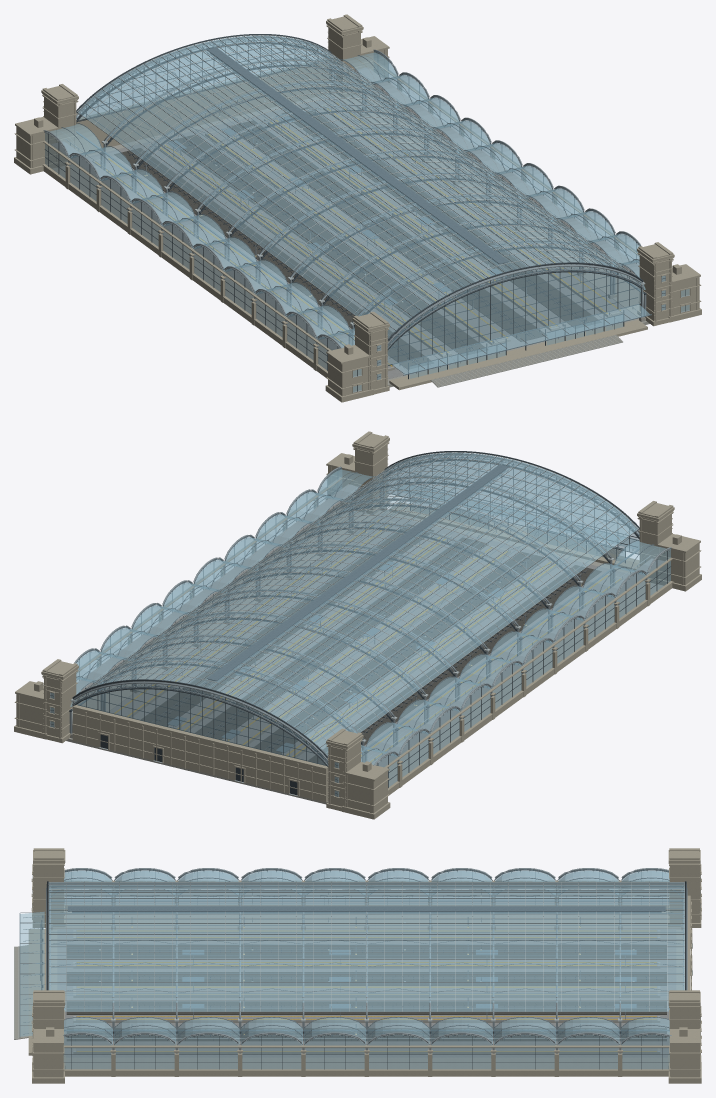
File: RAIL01_lod1.glb
3 renders of one model, top to bottom at view 1: azimuth 30°, elevation 25°; view 2: azimuth 150°, elevation 25°; view 3: azimuth 270°, elevation 25°, orthographic. The views are drawn at different scales.
Parts seen in each view (by area): view 1: Low_Iron_Glass_Panels__safety_glass, Track_Ballast__ballast, Side_Scalloped_Glass__safety_glass, Concourse_Floor__paving, Platform_Paving__paving, Front_Gable_Glass__safety_glass, Side_Arched_Curtain_Wall__safety_glass, Glass_Longitudinal_Caps__brushed_metal, Transverse_Glazing_Bars__brushed_metal, Side_Annex_Floor__concrete, Longitudinal_Purlins__galvanized_steel, Main_Arch_I_Beams__galvanized_steel (+41 smaller); view 2: Low_Iron_Glass_Panels__safety_glass, Track_Ballast__ballast, Side_Scalloped_Glass__safety_glass, Concourse_Floor__paving, Platform_Paving__paving, Side_Arched_Curtain_Wall__safety_glass, Glass_Longitudinal_Caps__brushed_metal, Transverse_Glazing_Bars__brushed_metal, Side_Annex_Floor__concrete, Longitudinal_Purlins__galvanized_steel, Rear_Lower_Masonry__stone, Rear_Upper_Glass__safety_glass (+41 smaller); view 3: Low_Iron_Glass_Panels__safety_glass, Track_Ballast__ballast, Side_Arched_Curtain_Wall__safety_glass, Concourse_Floor__paving, Platform_Paving__paving, Glass_Longitudinal_Caps__brushed_metal, Side_Annex_Floor__concrete, Longitudinal_Purlins__galvanized_steel, Side_Scalloped_Glass__safety_glass, EPDM_Gaskets__rubber, Platform_Slabs__concrete, Side_Gallery_Walkway__paving (+37 smaller).
Boxes of the visible parts, x1,y1,x2,y2 form: Low_Iron_Glass_Panels__safety_glass: [78, 35, 629, 337]; Track_Ballast__ballast: [114, 107, 601, 369]; Side_Scalloped_Glass__safety_glass: [50, 52, 645, 347]; Concourse_Floor__paving: [86, 96, 637, 378]; Platform_Paving__paving: [94, 103, 621, 367]; Front_Gable_Glass__safety_glass: [387, 266, 640, 364]; Side_Arched_Curtain_Wall__safety_glass: [45, 51, 639, 369]; Glass_Longitudinal_Caps__brushed_metal: [77, 35, 631, 339]; Transverse_Glazing_Bars__brushed_metal: [77, 35, 629, 323]; Side_Annex_Floor__concrete: [52, 91, 645, 369]; Longitudinal_Purlins__galvanized_steel: [81, 37, 635, 335]; Main_Arch_I_Beams__galvanized_steel: [76, 36, 642, 341]; Low_Iron_Glass_Panels__safety_glass: [86, 452, 637, 754]; Track_Ballast__ballast: [141, 524, 601, 764]; Side_Scalloped_Glass__safety_glass: [70, 469, 665, 764]; Concourse_Floor__paving: [110, 513, 629, 760]; Platform_Paving__paving: [114, 520, 621, 762]; Side_Arched_Curtain_Wall__safety_glass: [76, 468, 670, 786]; Glass_Longitudinal_Caps__brushed_metal: [84, 452, 638, 756]; Transverse_Glazing_Bars__brushed_metal: [86, 452, 638, 740]; Side_Annex_Floor__concrete: [70, 508, 663, 786]; Longitudinal_Purlins__galvanized_steel: [80, 454, 634, 752]; Rear_Lower_Masonry__stone: [72, 705, 328, 802]; Rear_Upper_Glass__safety_glass: [75, 683, 328, 765]; Low_Iron_Glass_Panels__safety_glass: [49, 882, 684, 1011]; Track_Ballast__ballast: [66, 945, 666, 1041]; Side_Arched_Curtain_Wall__safety_glass: [63, 870, 669, 1069]; Concourse_Floor__paving: [57, 929, 676, 1057]; Platform_Paving__paving: [76, 930, 657, 1051]; Glass_Longitudinal_Caps__brushed_metal: [49, 882, 684, 1011]; Side_Annex_Floor__concrete: [53, 911, 680, 1069]; Longitudinal_Purlins__galvanized_steel: [49, 883, 684, 1008]; Side_Scalloped_Glass__safety_glass: [64, 871, 669, 1045]; EPDM_Gaskets__rubber: [49, 882, 684, 982]; Platform_Slabs__concrete: [73, 930, 660, 1054]; Side_Gallery_Walkway__paving: [64, 890, 669, 1048].
Size of the model in its own units: 159 by 36.4 by 258.
13 materials, 13 textured.
